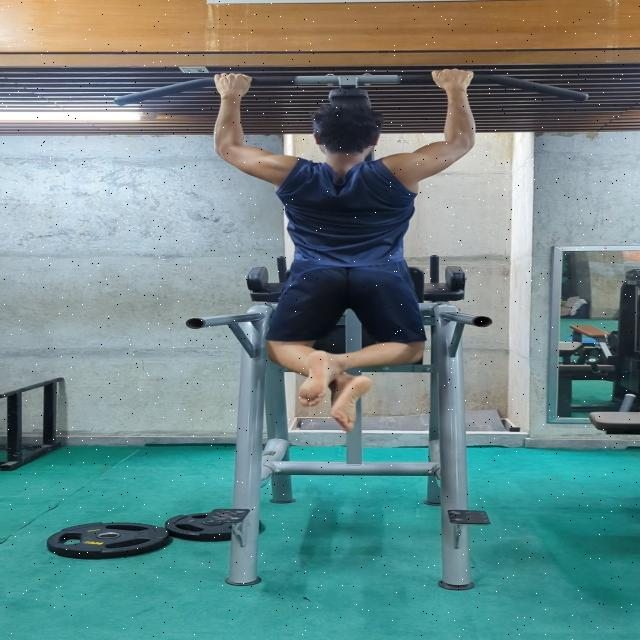Normal_PullUps: (203, 63, 480, 436)
